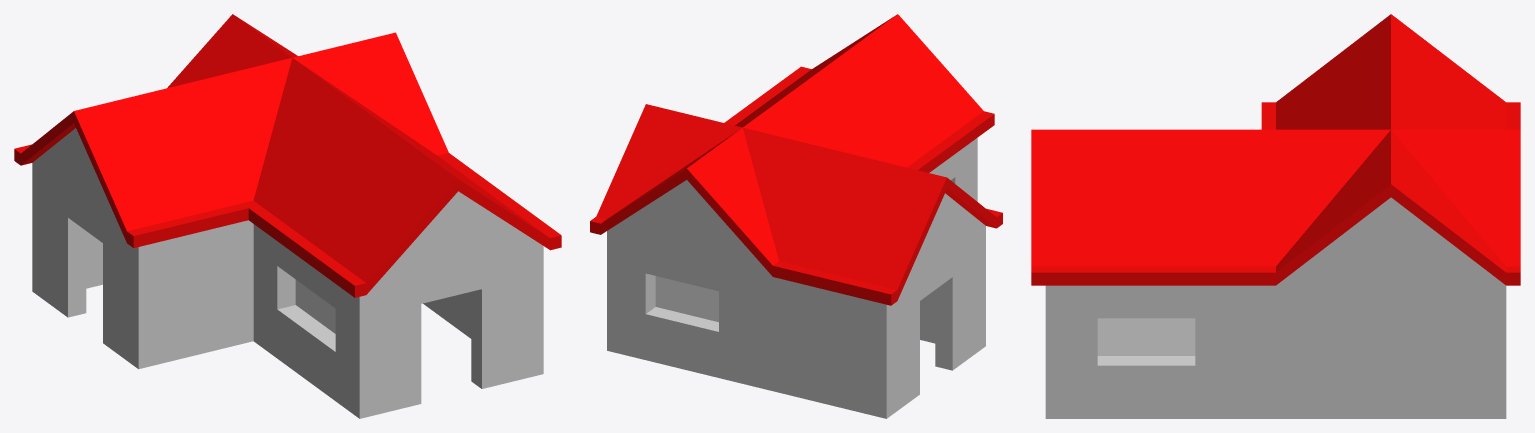
File: enum0.gltf
3 renders of one model, left to right at view 1: azimuth 30°, elevation 25°; view 2: azimuth 150°, elevation 25°; view 3: azimuth 270°, elevation 25°, orthographic. The views are drawn at different scales.
Parts seen in each view (by area): view 1: roof.002, walls.002, Plane.009; view 2: roof.002, walls.002, Plane.008; view 3: roof.002, walls.002, Plane.010.
Boxes of the visible parts, box(x1,y1,x2,y2) form: roof.002: box(14, 14, 561, 297); walls.002: box(32, 128, 543, 418); Plane.009: box(295, 279, 335, 333); roof.002: box(590, 14, 1002, 305); walls.002: box(607, 138, 985, 418); Plane.008: box(655, 276, 718, 322); roof.002: box(1031, 14, 1520, 285); walls.002: box(1045, 197, 1506, 418); Plane.010: box(1097, 318, 1195, 355).
Bounding box in the file's own units: 0.8125 × 0.5358 × 0.9865.
